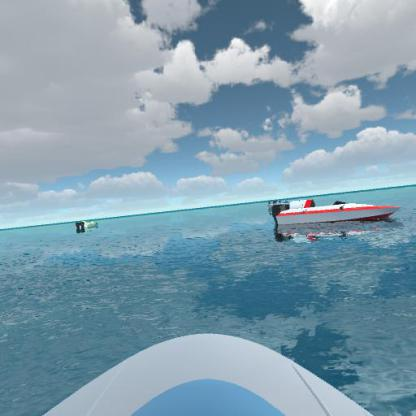usv0: (70, 214, 102, 235)
usv1: (266, 196, 296, 214)
usv3: (274, 197, 402, 239)
